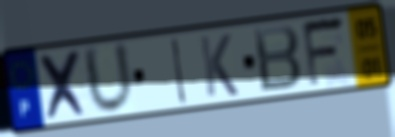B: (251, 22, 304, 95)
F: (300, 13, 349, 92)
I: (170, 35, 189, 107)
K: (197, 31, 241, 99)
U: (80, 39, 137, 118)
X: (36, 47, 92, 124)
